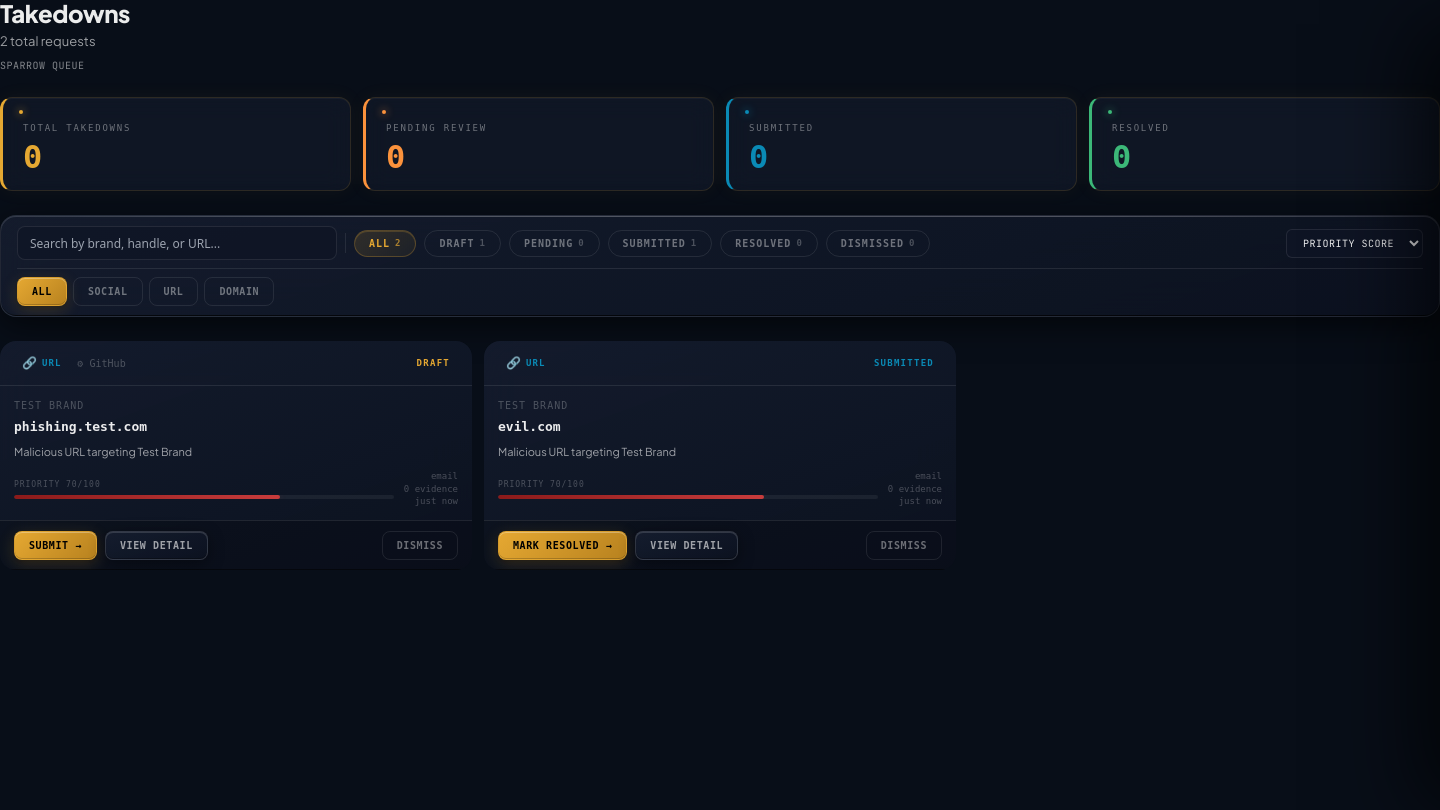
it: Takedowns Page › opens takedown detail panel on View Detail click
Click the button "View Detail" below "phishing.test.com" at (156, 545), box [105,531,208,560]
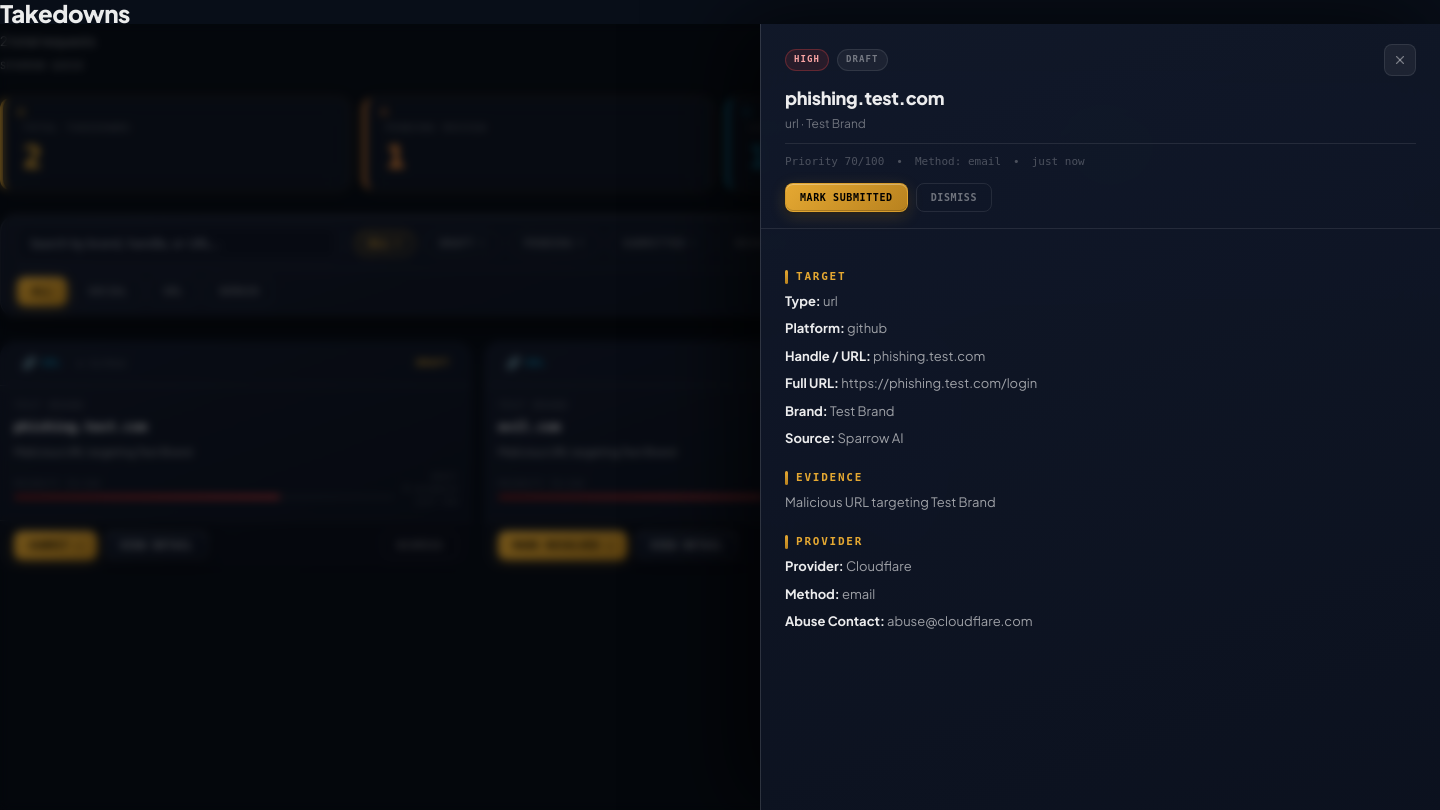
Expected: the heading "Target" is shown, [796,268,846,285]
Expected: the heading "Evidence" is shown, [796,470,863,486]
